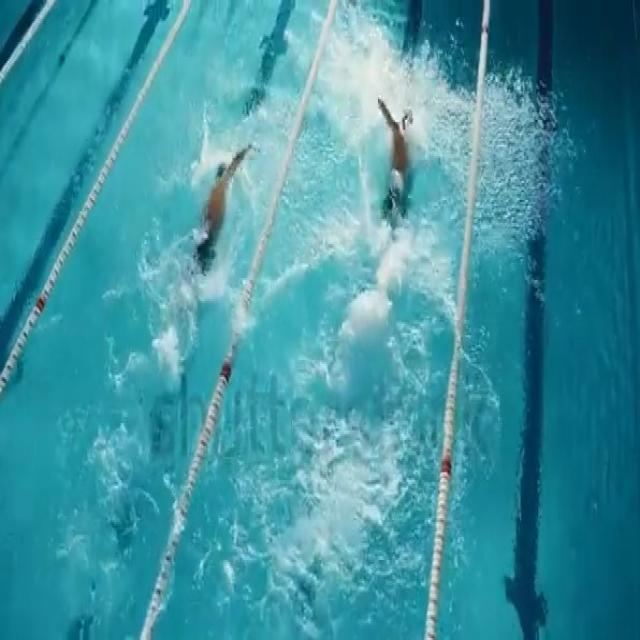swimming: (181, 119, 254, 321), (371, 73, 428, 266)
